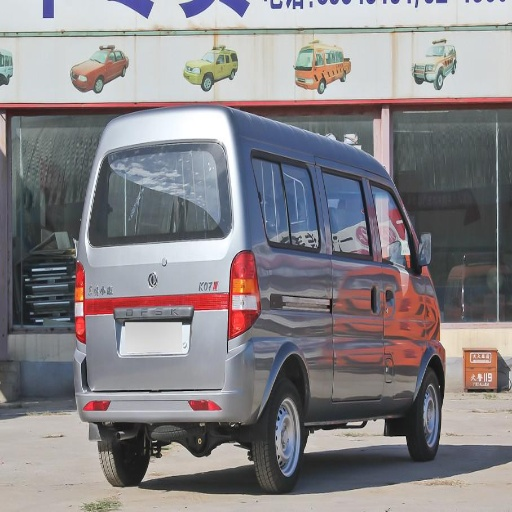back_bumper: (75, 329, 274, 422)
back_glass: (89, 181, 215, 244)
back_right_door: (262, 160, 377, 294)
tailgate: (85, 241, 191, 343)
trunk: (247, 292, 451, 405), (77, 250, 238, 385)
